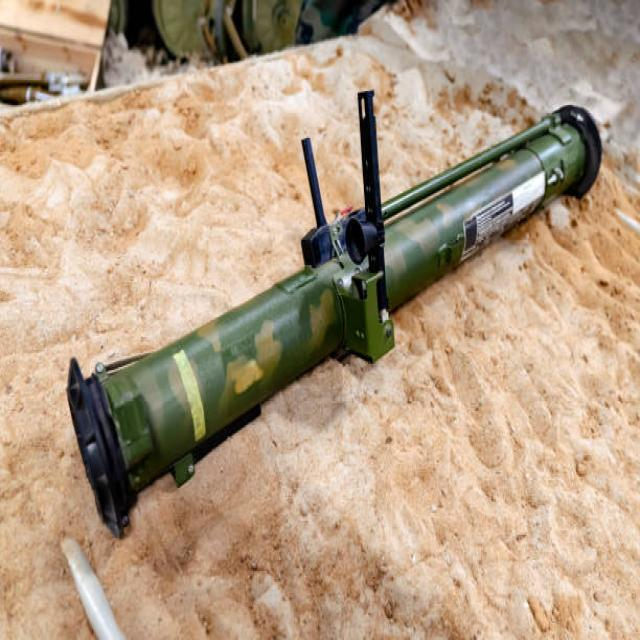bazooka: (56, 86, 605, 518)
